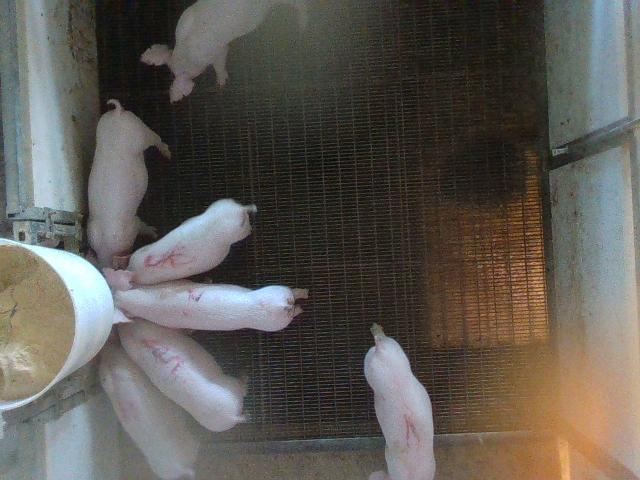pig-1: (364, 324, 434, 479)
pig-3: (119, 318, 245, 431)
pig-4: (99, 330, 199, 478)
pig-5: (128, 199, 256, 284)
